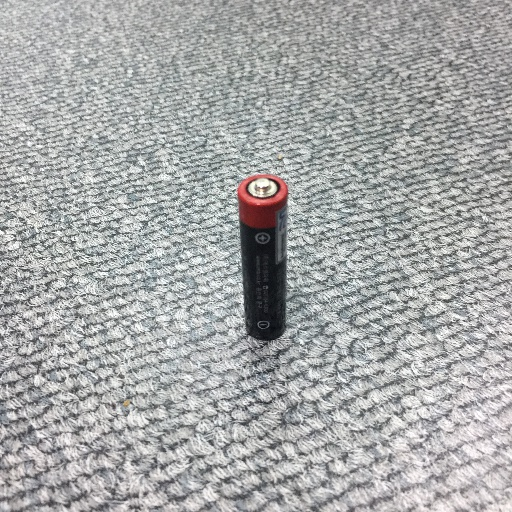Battery_0: (232, 168, 295, 347)
